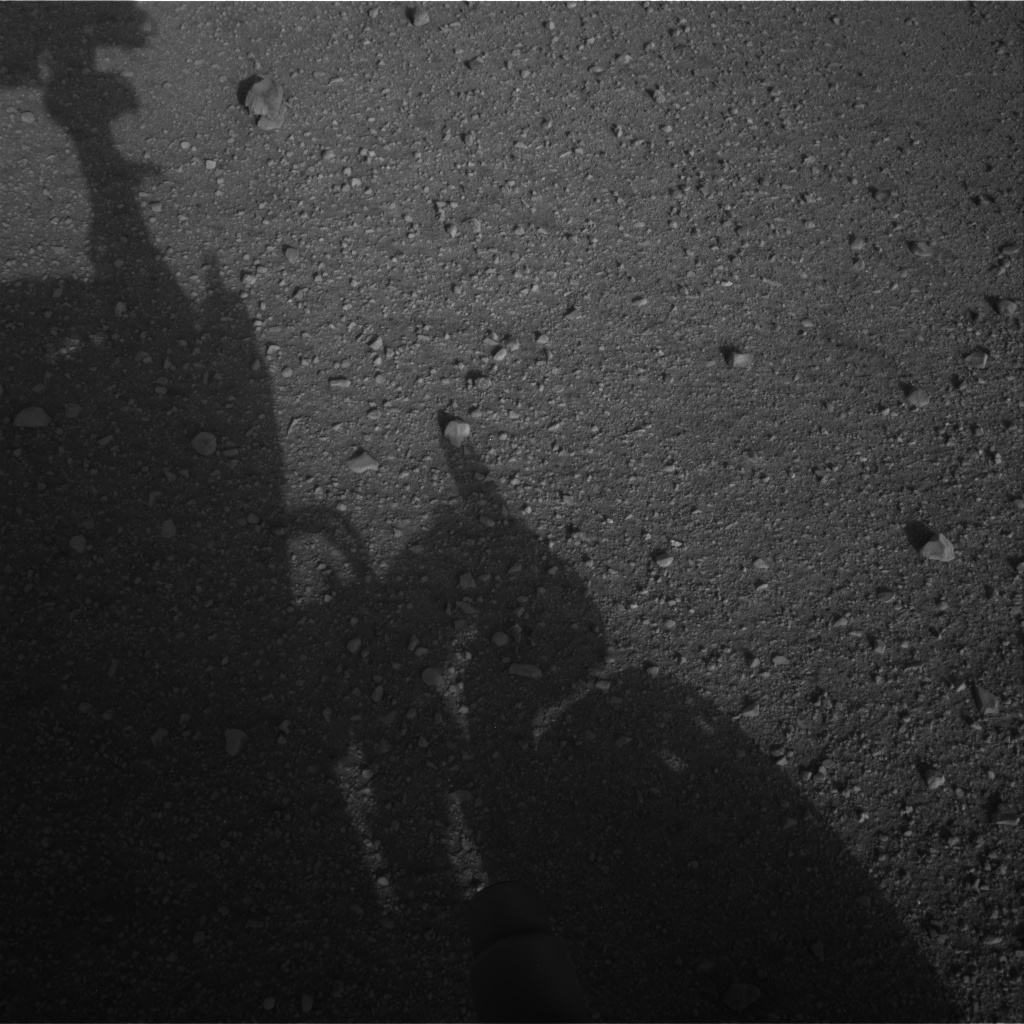soil: (4, 4, 1020, 1019)
